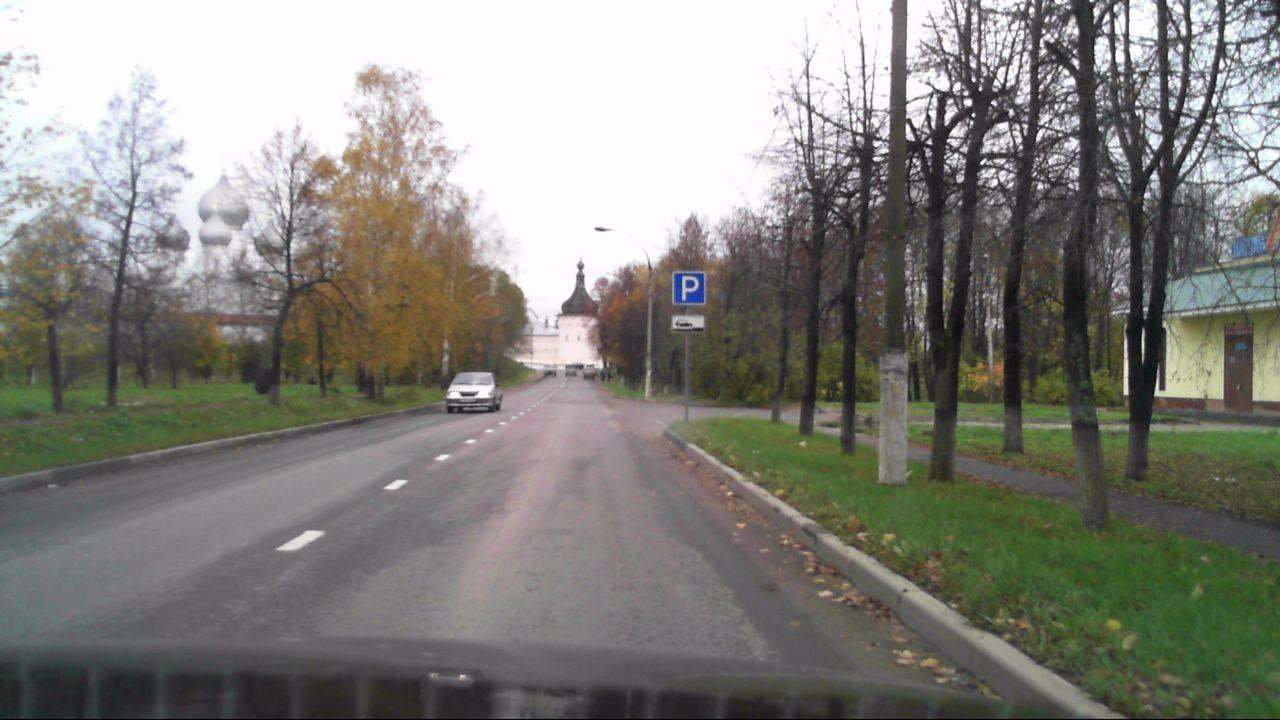6_4: (670, 268, 706, 306)
8_6_5: (672, 314, 705, 330)
